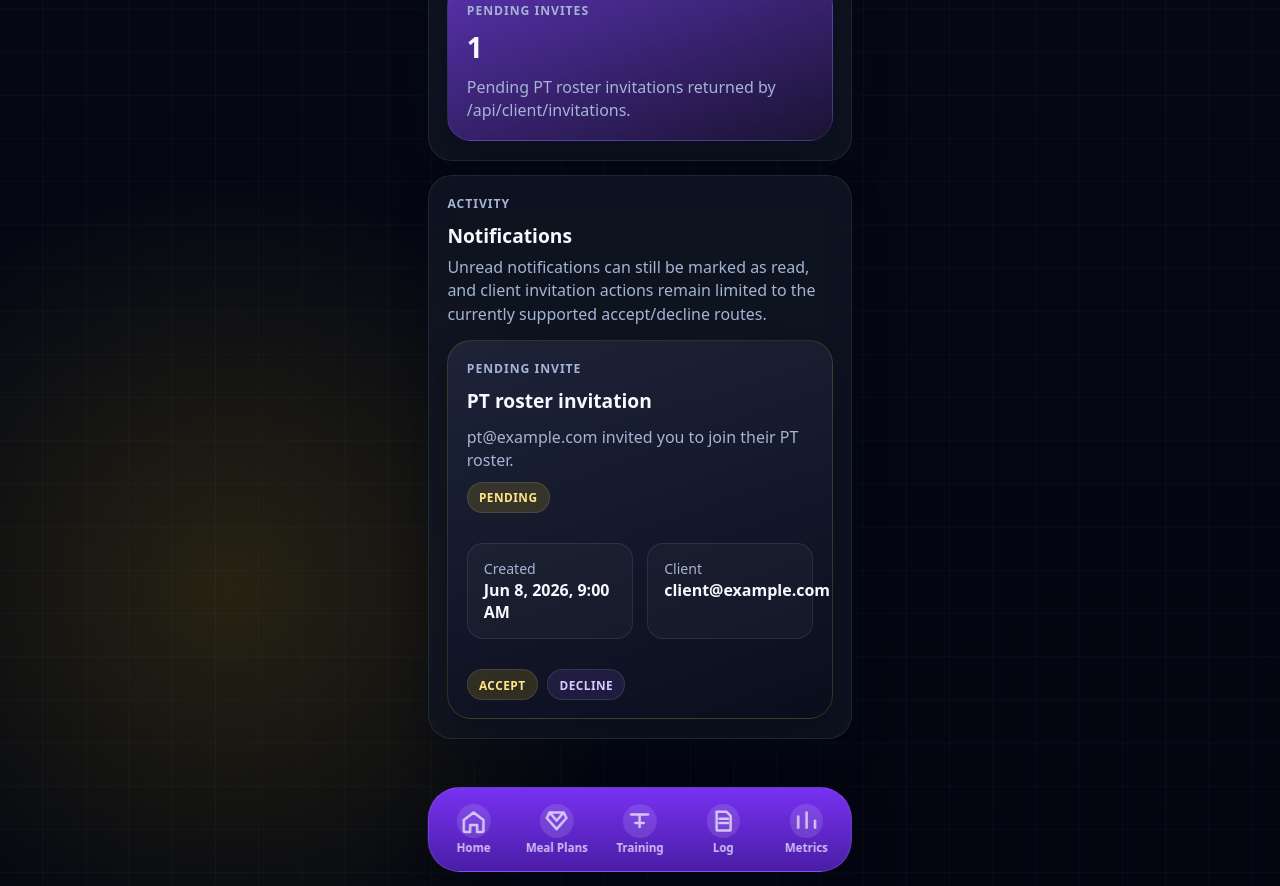
Scenario: Notifications routes mobile experience › preserves client invitation acceptance through the existing accept route and updates visible notification state
(page scrolled)
What coordinates should you click on to do the following:
click the button named "Accept PT roster invitation from pt@example.com"
I would click on:
 (502, 685)
Its box is [467, 669, 538, 700].
(page scrolled)
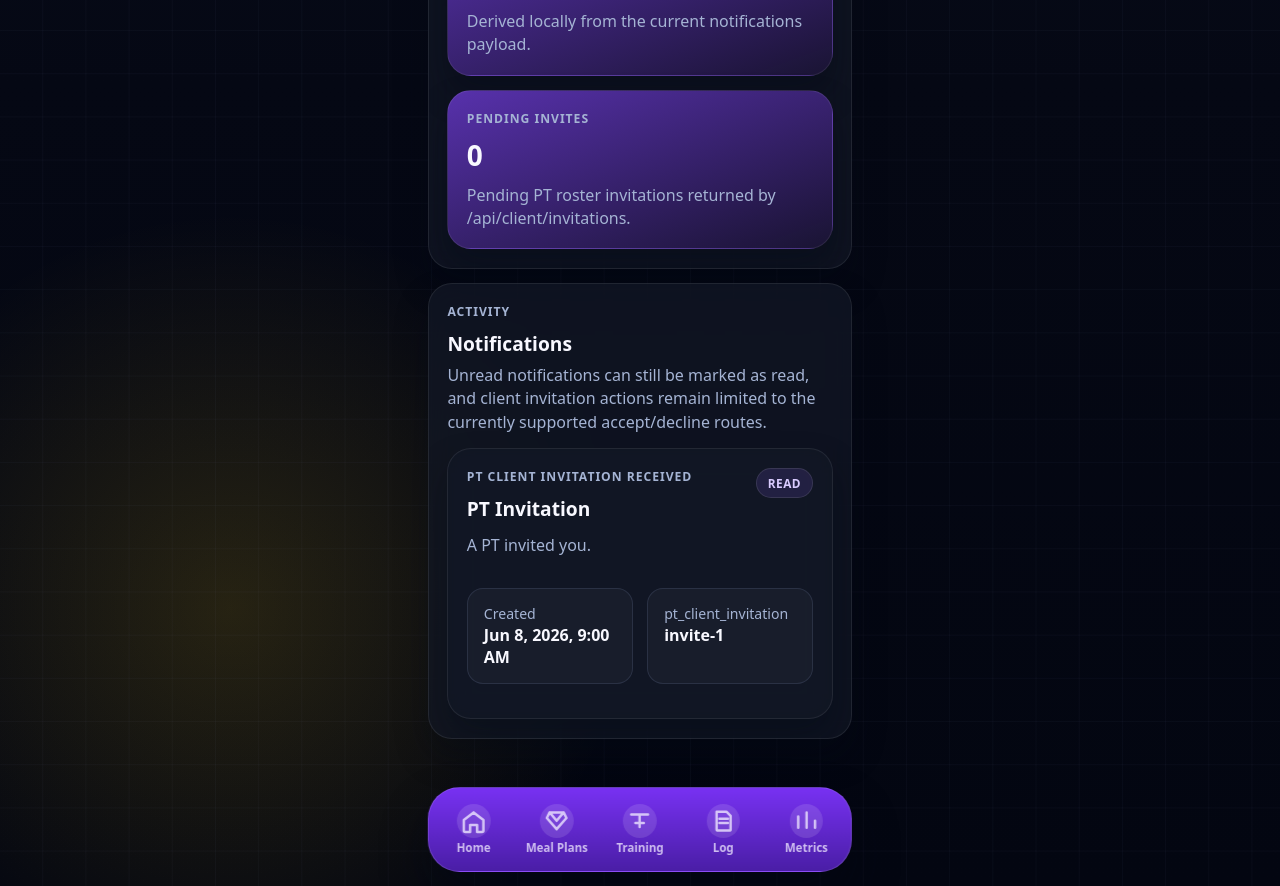
Now the heading "PT Invitation" is shown, box [467, 495, 590, 522]
Now the text "Read" is shown, box [756, 468, 813, 498]
